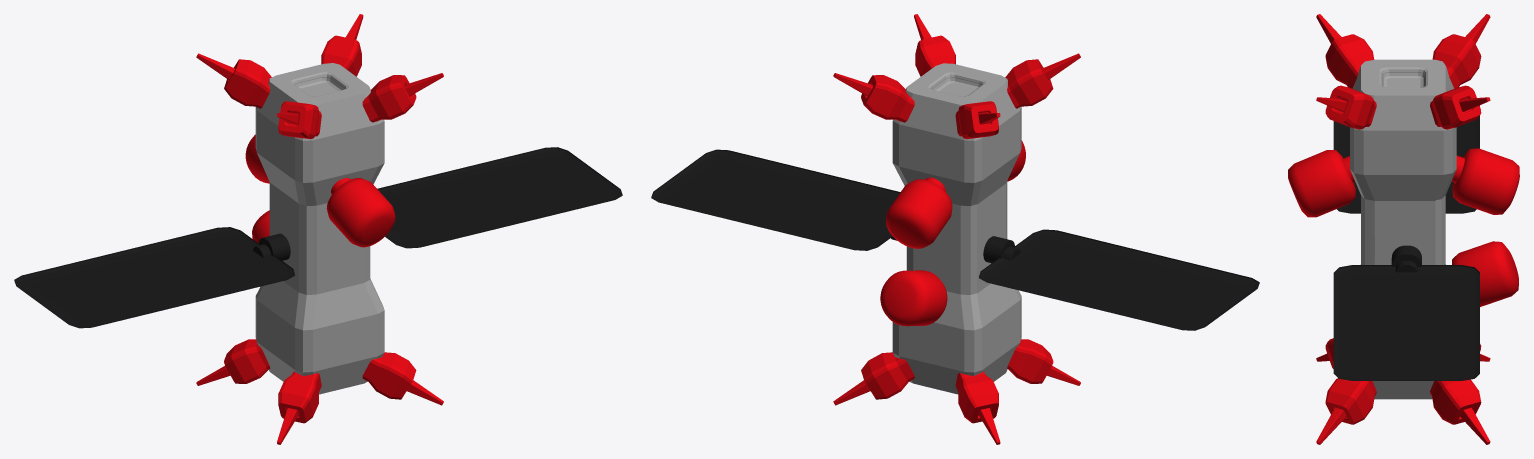
Rendered from 230311_space_junk_minigamejam_01.fbx.
3 views of the same model, side by side, from view 1: azimuth 30°, elevation 25°; view 2: azimuth 150°, elevation 25°; view 3: azimuth 270°, elevation 25° (orthographic). The views are drawn at different scales.
Parts seen in each view (by area): view 1: Cube.002; view 2: Cube.002; view 3: Cube.002.
Part boxes in pixels (x1=…): Cube.002: x1=14, y1=14, x2=622, y2=444; Cube.002: x1=651, y1=14, x2=1259, y2=444; Cube.002: x1=1288, y1=14, x2=1519, y2=444.
Size of the model in its own units: 3552 by 2040 by 1234.
